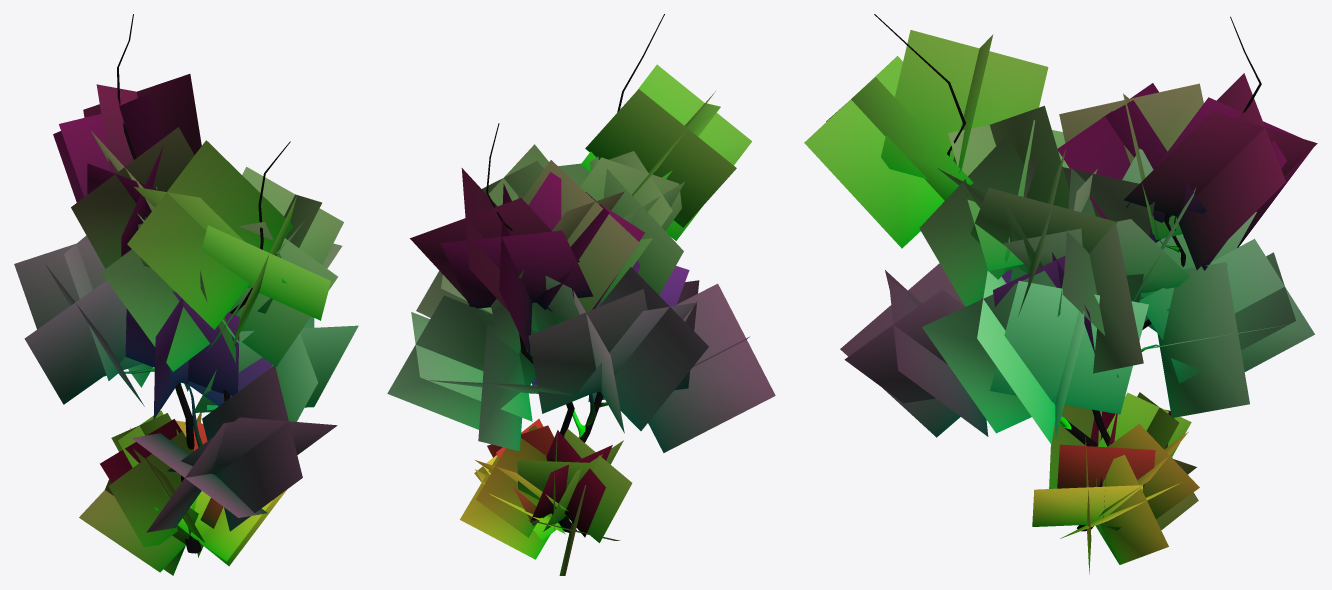
The model's file is M_P12_Tree_5.fbx.
3 views of the same model, side by side, from view 1: azimuth 30°, elevation 25°; view 2: azimuth 150°, elevation 25°; view 3: azimuth 270°, elevation 25° (orthographic). The views are drawn at different scales.
Visible parts, largest first — view 1: Tree_5; view 2: Tree_5; view 3: Tree_5.
Part boxes in pixels (box(x1,y1,x2,y2)): Tree_5: box(14, 14, 358, 575); Tree_5: box(387, 14, 775, 575); Tree_5: box(804, 14, 1317, 574).
Size of the model in its own units: 172 by 286 by 240.
